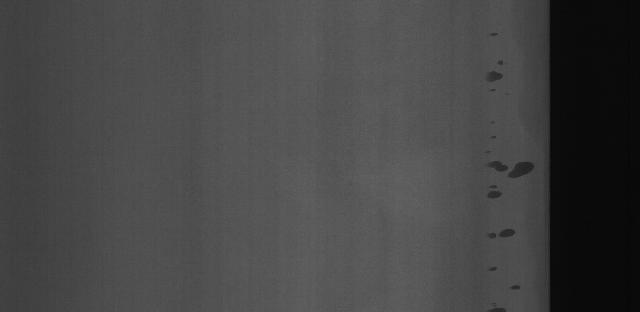oil_spot: (485, 148, 542, 181), (482, 224, 522, 245), (484, 61, 512, 86), (494, 279, 527, 300), (476, 183, 507, 202)
